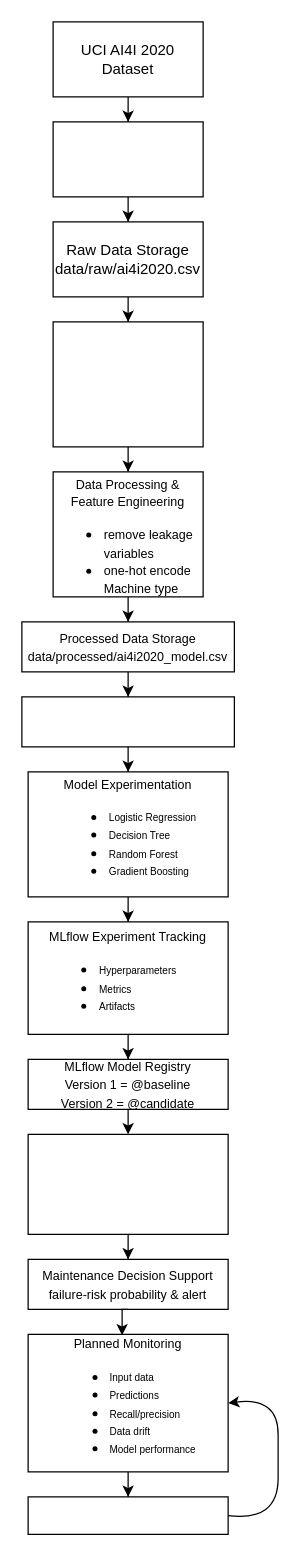
This 300x1556 diagram has some shape labels left out. Here are the shapes that lost their labels. From the top down, the box of each, then its label:
(52, 121, 203, 197): Batch Data Ingestion download_data.py
(52, 321, 203, 447): Data Validation schema missing values duplicates ranges
(21, 696, 234, 747): DVC Data Versioning raw & processed datasets
(27, 1133, 228, 1234): Planned Deployment Batch scoring API Streamlit
(27, 1496, 228, 1534): Feedback & retraining loop
